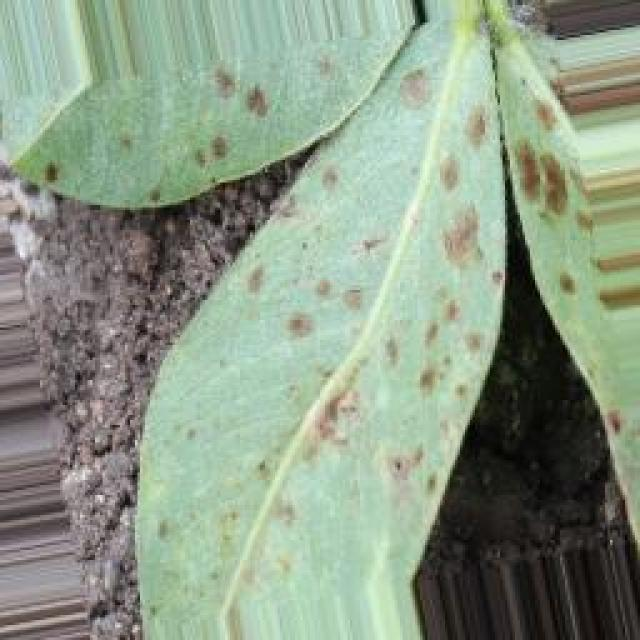Whitefly: (55, 13, 619, 571)
